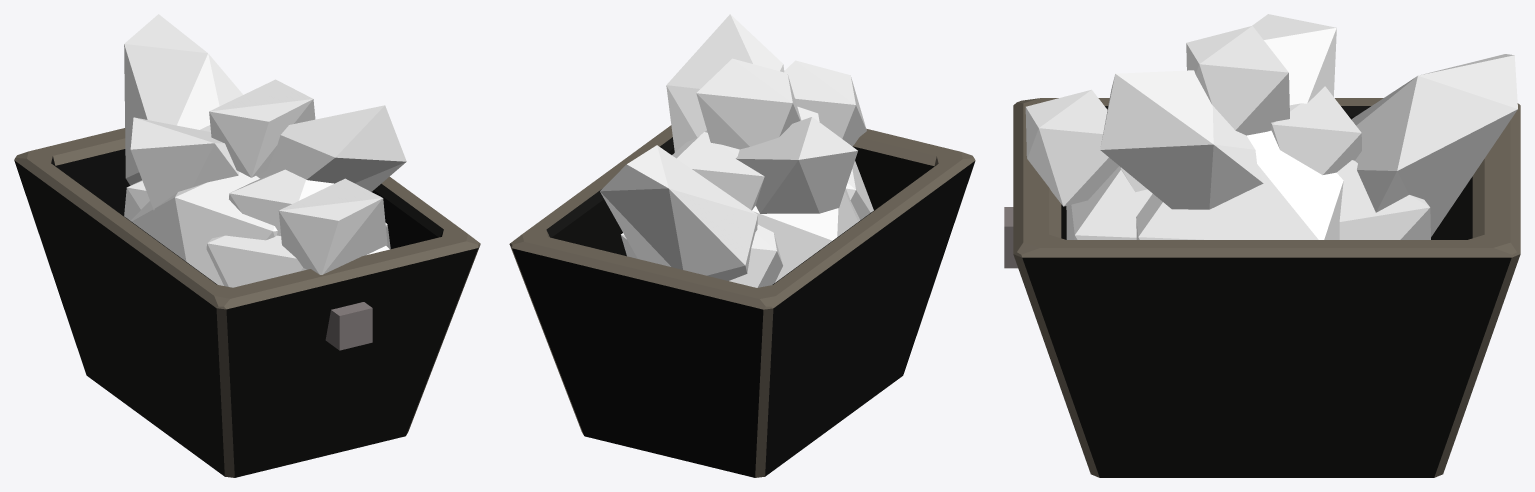
The model's file is MineCart1.1.fbx.
The picture shows the model from 3 angles, left to right: view 1: azimuth 30°, elevation 25°; view 2: azimuth 150°, elevation 25°; view 3: azimuth 270°, elevation 25°; orthographic projection. The views are drawn at different scales.
Parts seen in each view (by area): view 1: Cart, Gem, Light; view 2: Cart, Gem; view 3: Cart, Gem, Light.
Part boxes in pixels (x1=…): Cart: x1=14, y1=128, x2=480, y2=477; Gem: x1=124, y1=14, x2=406, y2=287; Light: x1=325, y1=302, x2=372, y2=350; Cart: x1=509, y1=125, x2=975, y2=477; Gem: x1=600, y1=14, x2=873, y2=287; Cart: x1=1013, y1=98, x2=1520, y2=477; Gem: x1=1025, y1=14, x2=1517, y2=239; Light: x1=1004, y1=207, x2=1017, y2=268.
Bounding box in the file's own units: 160 × 189 × 224.
